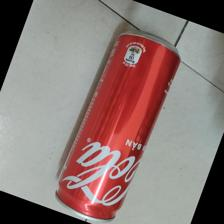Coca: (54, 30, 181, 224)
